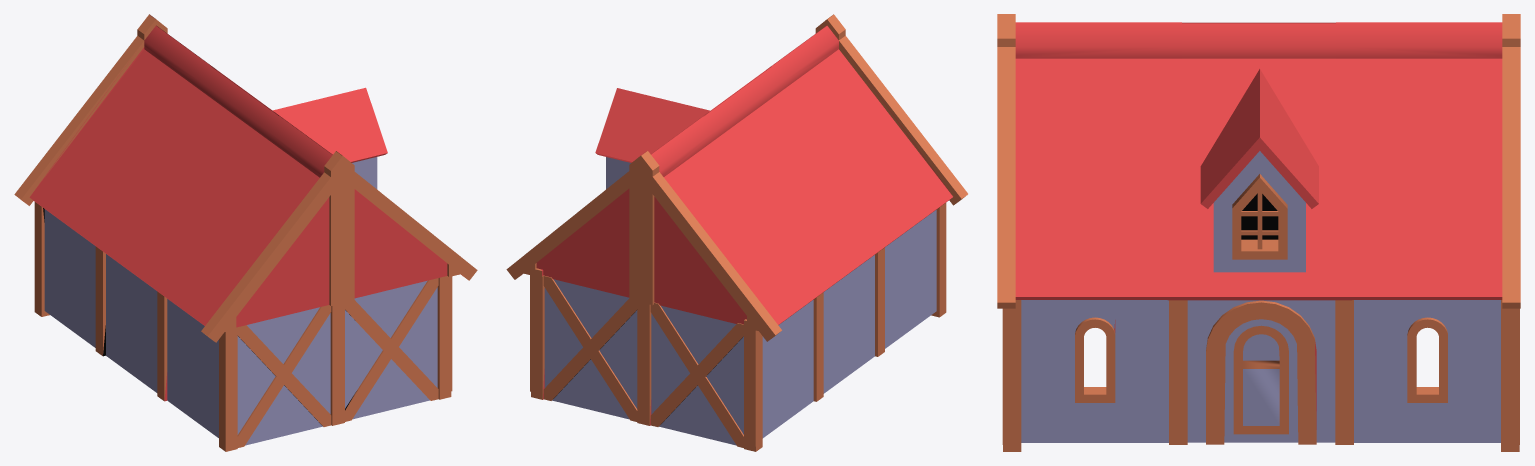
File: Archer House.fbx
The picture shows the model from 3 angles, left to right: view 1: azimuth 30°, elevation 25°; view 2: azimuth 150°, elevation 25°; view 3: azimuth 270°, elevation 25°; orthographic projection. The views are drawn at different scales.
Visible parts, largest first — view 1: Archer House; view 2: Archer House; view 3: Archer House.
Boxes of the visible parts, x1=… form: Archer House: x1=14, y1=14, x2=477, y2=451; Archer House: x1=506, y1=14, x2=967, y2=451; Archer House: x1=997, y1=14, x2=1520, y2=451.
Size of the model in its own units: 4.89 by 4.67 by 6.07.
